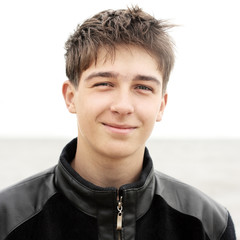teen: (58, 11, 180, 161)
